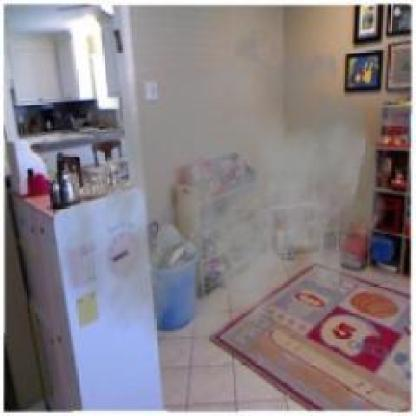Smoke: (49, 11, 392, 377)
